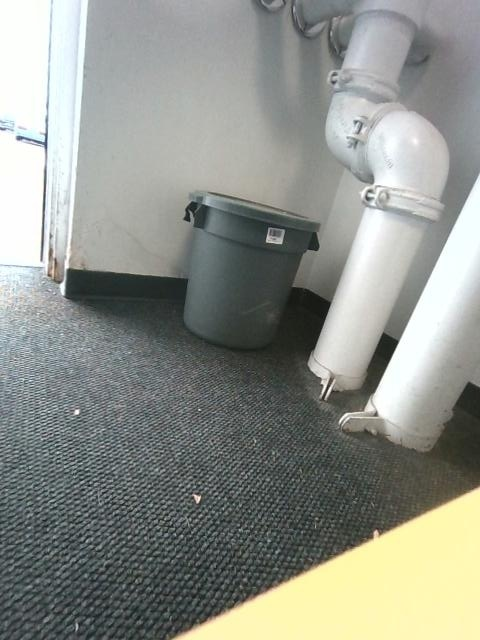ball: (184, 192, 319, 348)
